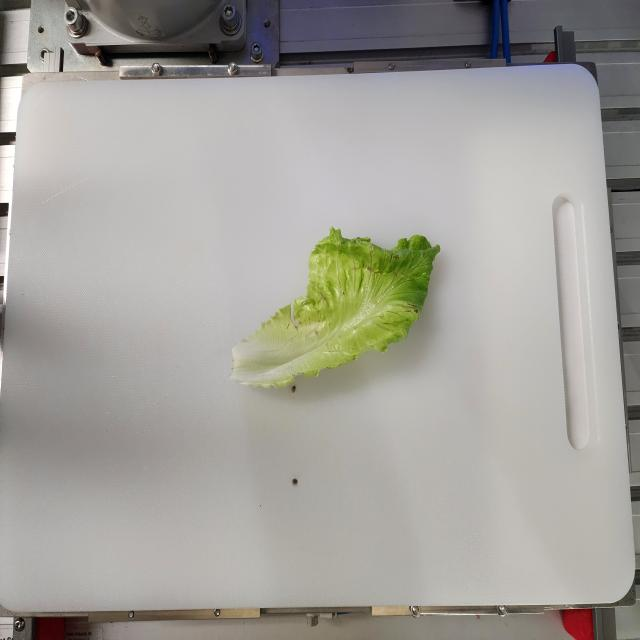lettuce: (228, 225, 441, 390)
